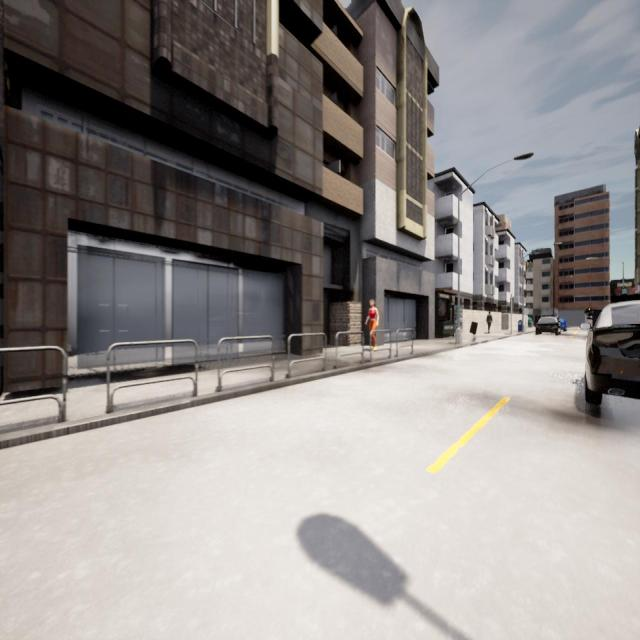Pedestrian: (365, 299, 379, 350), (486, 310, 493, 334)
Vehicle: (585, 300, 639, 404), (536, 316, 560, 335), (558, 316, 566, 332)
traffic_light: (512, 298, 514, 309)
